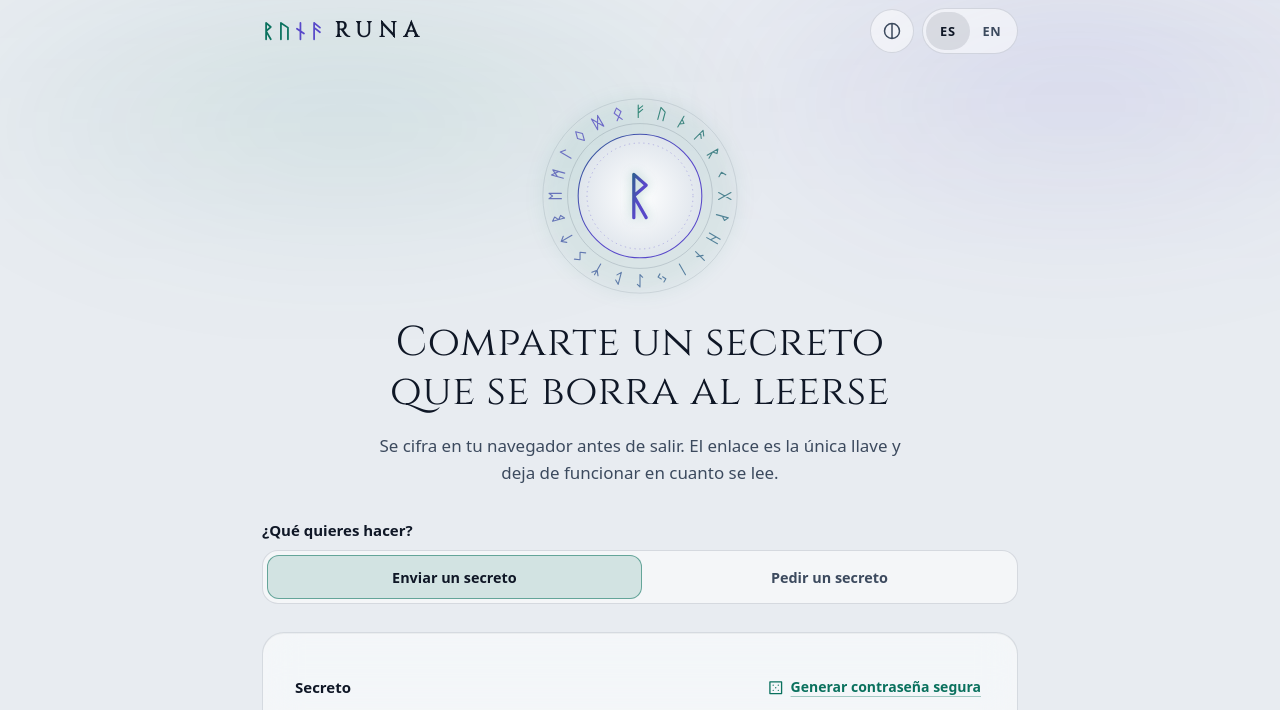
Test: pantalla de crear › cambia de idioma y actualiza <html lang>
Click the button with aria-label "English" at [992, 31], box x1=970 y1=12 x2=1014 y2=50
(page scrolled)
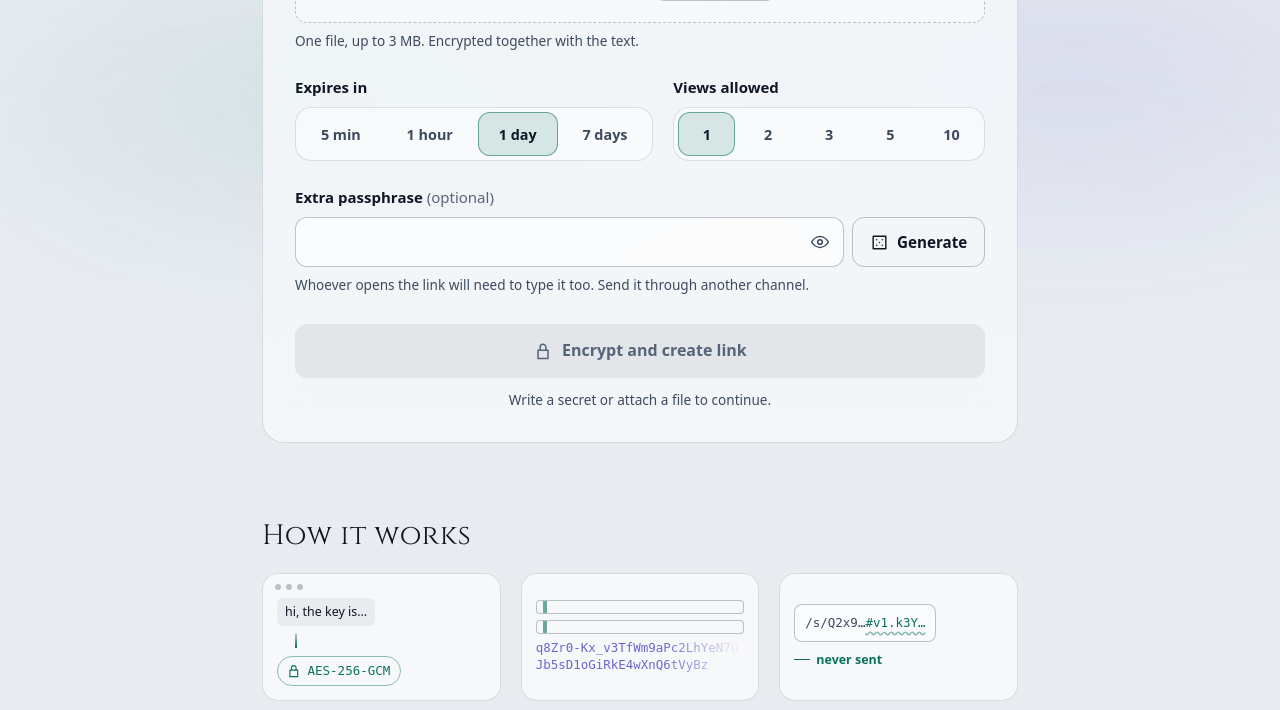
Expected: the button "Encrypt and create link" is shown, x1=295 y1=324 x2=985 y2=378
